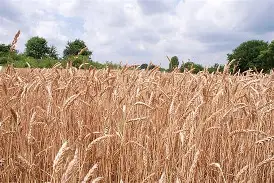crops: (0, 69, 269, 180), (153, 35, 271, 75), (114, 65, 170, 112), (0, 53, 103, 70)
